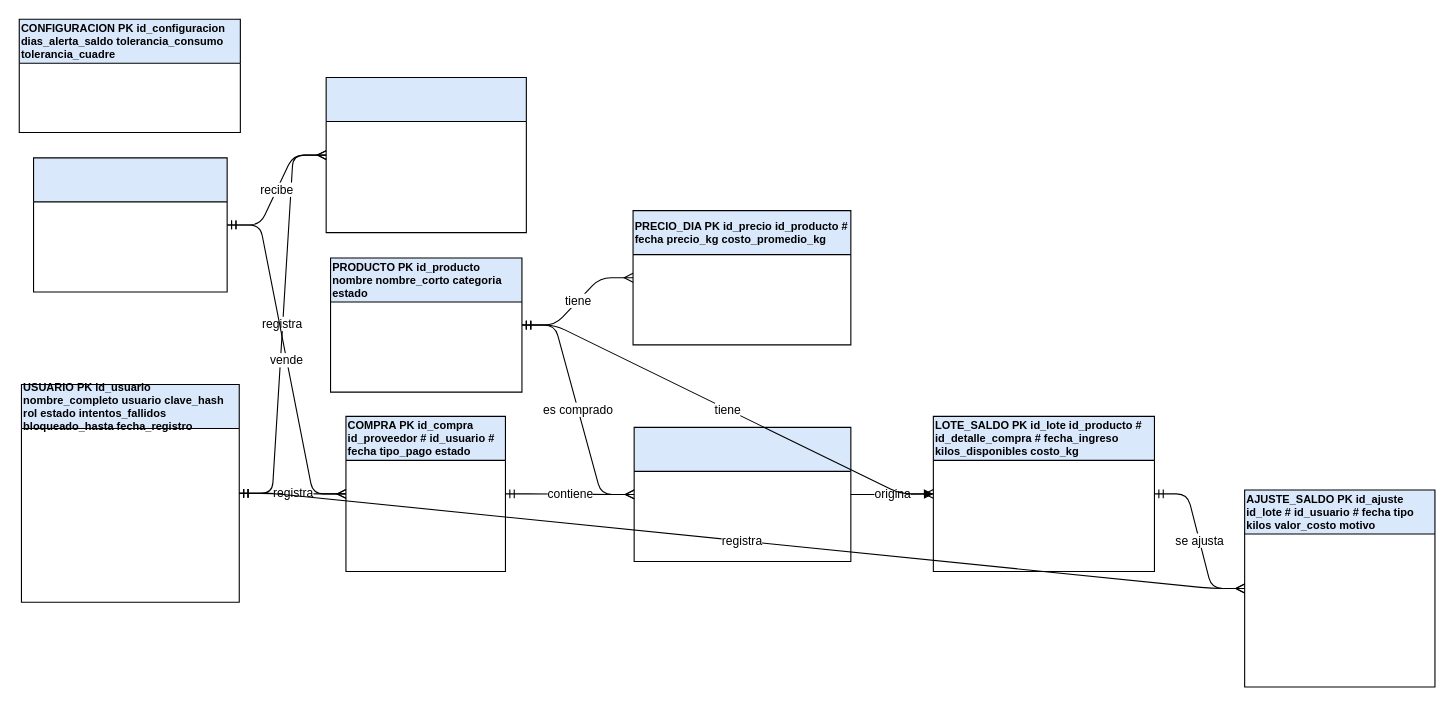
The diagram is 1454 pixels wide and 706 high, and some of its shapes have lost their labels. Here are the shapes that lost their labels. From the top down, the centre of each, then its label:
At [425,154]: "PAGO_PROVEEDOR PK id_pago id_proveedor # id_usuario # fecha monto medio".
At [129,224]: "PROVEEDOR PK id_proveedor nombre ruc tipo telefono".
At [742,494]: "DETALLE_COMPRA PK id_detalle_compra id_compra # id_producto # kilos costo_total".
